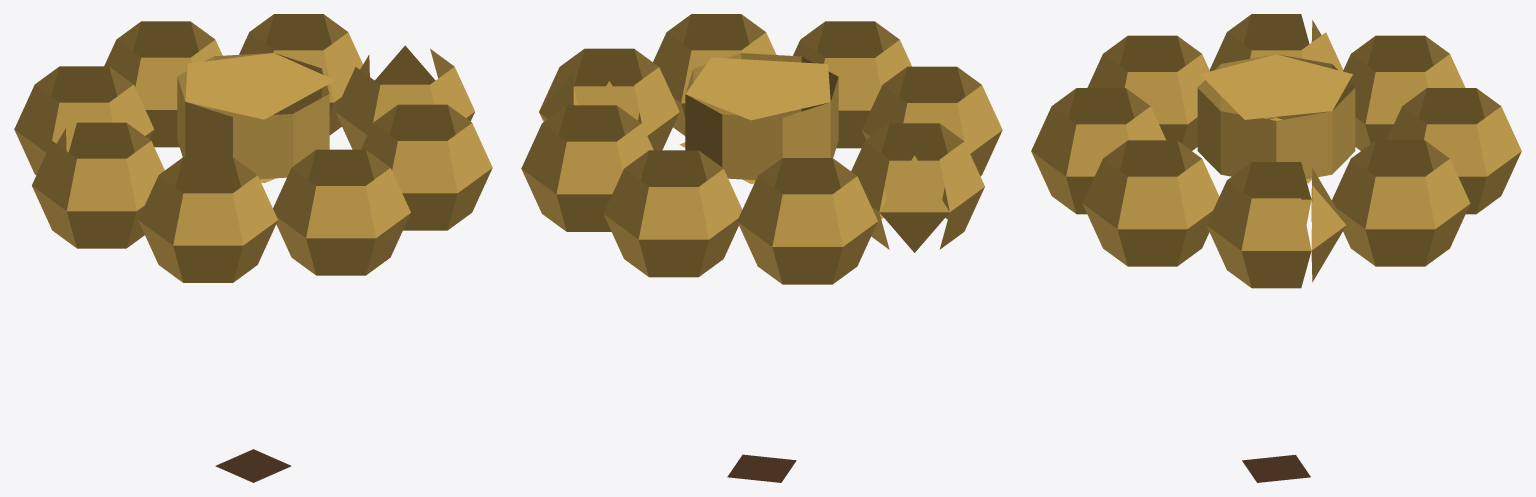
Rendered from prop_bangul_lod1.glb.
The picture shows the model from 3 angles, left to right: view 1: azimuth 30°, elevation 25°; view 2: azimuth 150°, elevation 25°; view 3: azimuth 270°, elevation 25°; orthographic projection.
Parts seen in each view (by area): view 1: prop_bangul_lod1; view 2: prop_bangul_lod1; view 3: prop_bangul_lod1.
Boxes of the visible parts, box(x1,y1,x2,y2) form: prop_bangul_lod1: box(14, 14, 492, 482); prop_bangul_lod1: box(521, 14, 1002, 482); prop_bangul_lod1: box(1031, 14, 1521, 482).
Size of the model in its own units: 0.2693 by 0.24 by 0.28.
